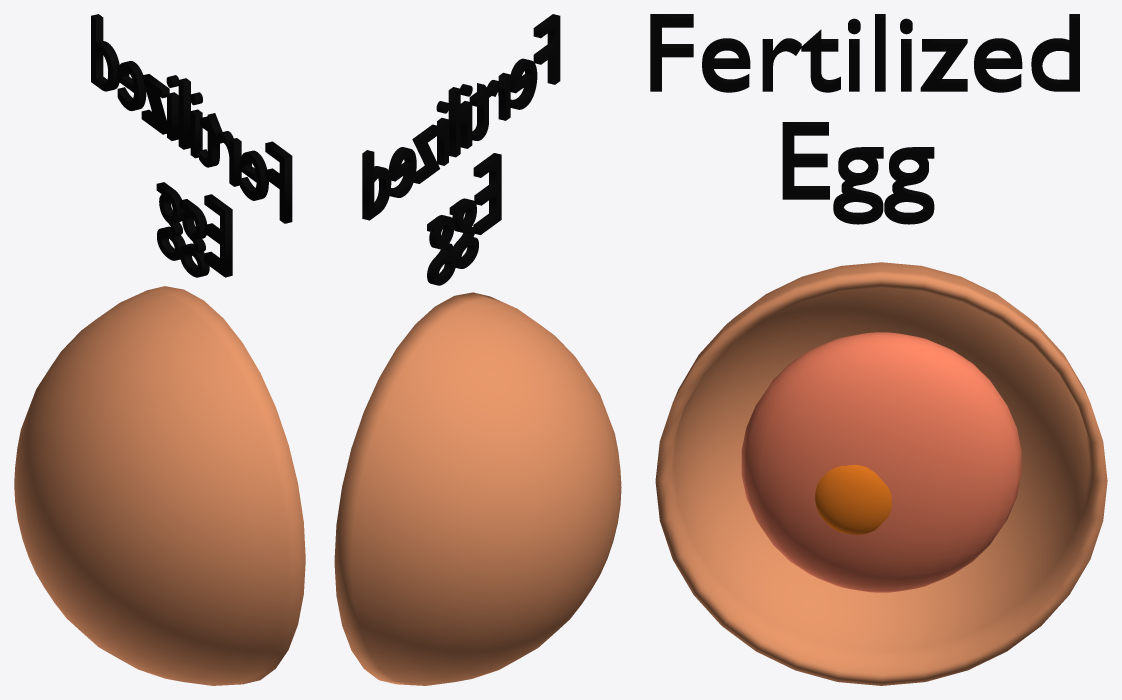
The model's file is (1)Fertilized Egg.gltf.
3 views of the same model, side by side, from view 1: azimuth 30°, elevation 25°; view 2: azimuth 150°, elevation 25°; view 3: azimuth 270°, elevation 25° (orthographic). The views are drawn at different scales.
Visible parts, largest first — view 1: Sphere, Text; view 2: Sphere, Text; view 3: Sphere, Sphere.002, Text, Sphere.001.
Part boxes in pixels (x1,y1,x2,y2): Sphere: (14,286,305,685); Text: (91,14,292,277); Sphere: (334,292,621,685); Text: (362,14,560,285); Sphere: (655,262,1107,685); Sphere.002: (741,332,1021,592); Text: (650,14,1079,224); Sphere.001: (815,465,891,534).
Bounding box in the file's own units: 0.8967 × 2.79 × 1.76.
